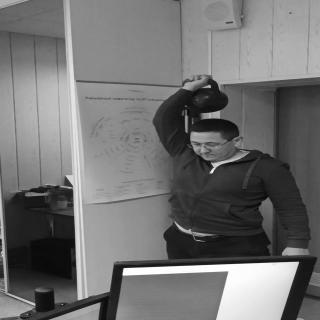girya: (184, 77, 229, 114)
